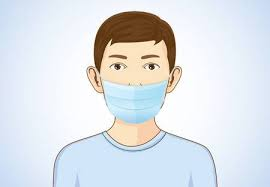masked: (81, 12, 186, 125)
